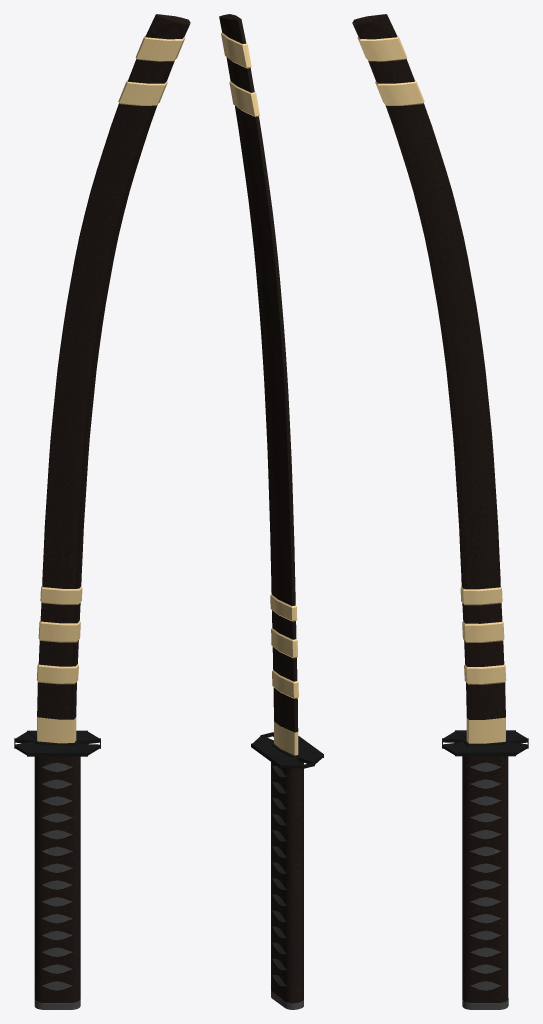
Rendered from katana2.fbx.
The picture shows the model from 3 angles, left to right: view 1: azimuth 90°, elevation 25°; view 2: azimuth 210°, elevation 25°; view 3: azimuth 270°, elevation 25°; orthographic projection. The views are drawn at different scales.
Parts seen in each view (by area): view 1: Katanacase, Katana; view 2: Katanacase, Katana; view 3: Katanacase, Katana.
Part boxes in pixels (x1,y1,x2,y2): Katanacase: [36, 14, 190, 719]; Katana: [14, 717, 100, 1009]; Katanacase: [219, 14, 298, 732]; Katana: [251, 721, 323, 1009]; Katanacase: [352, 14, 506, 719]; Katana: [442, 717, 528, 1009].
Bounding box in the file's own units: 21.46 × 444 × 71.76.
